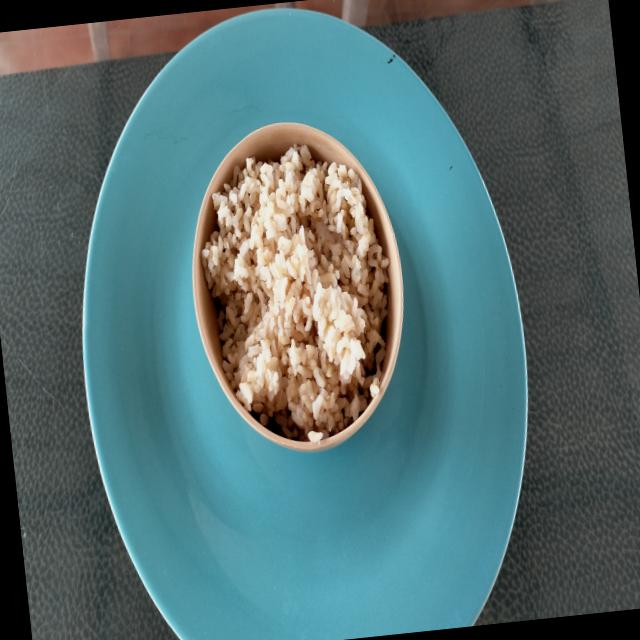brown-rice: (201, 145, 388, 442)
